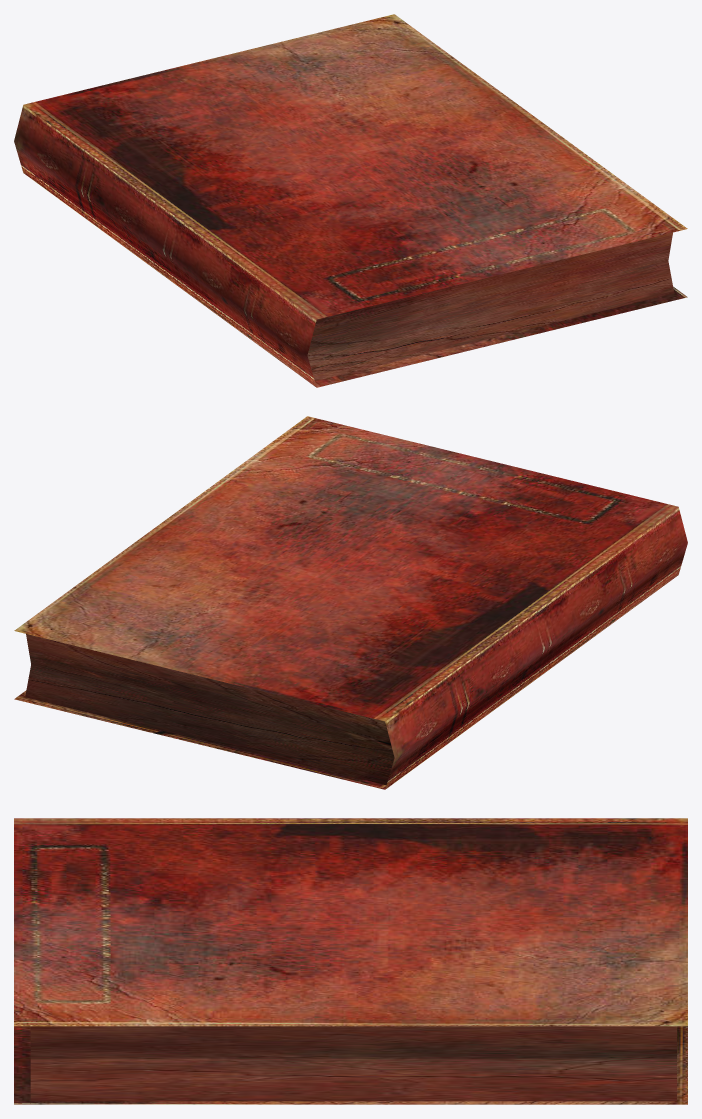
The model's file is Book3.fbx.
3 views of the same model, one above another, from view 1: azimuth 30°, elevation 25°; view 2: azimuth 150°, elevation 25°; view 3: azimuth 270°, elevation 25° (orthographic). The views are drawn at different scales.
Visible parts, largest first — view 1: Cube; view 2: Cube; view 3: Cube.
Boxes of the visible parts, <box> form: Cube: <box>14,14,687,387</box>; Cube: <box>14,416,687,789</box>; Cube: <box>14,818,687,1104</box>.
Size of the model in its own units: 209 by 35.78 by 279.
